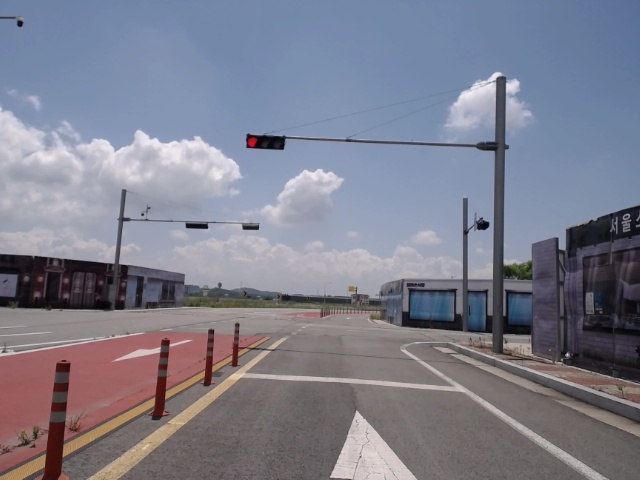red_3: (245, 134, 288, 149)
